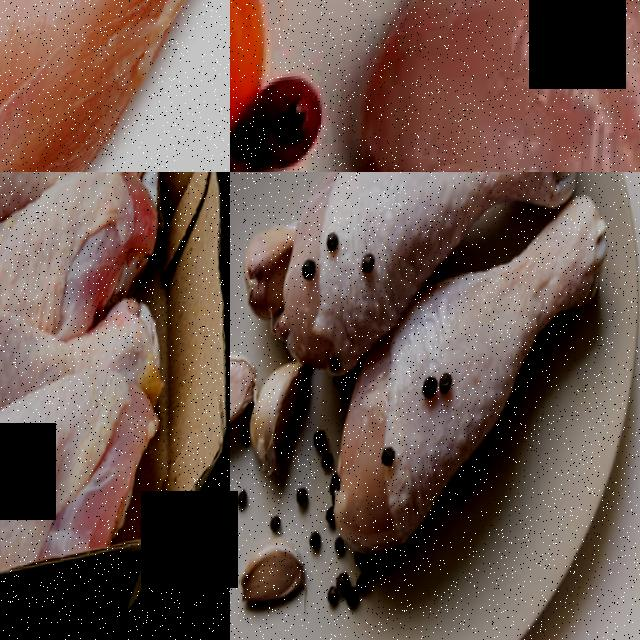chicken breast: (307, 0, 640, 172), (0, 0, 230, 172)
chicken thigh: (351, 213, 617, 557), (281, 172, 582, 310), (0, 255, 164, 482), (0, 376, 168, 596)
garlic: (257, 363, 314, 489), (238, 545, 320, 619), (230, 350, 257, 464)
